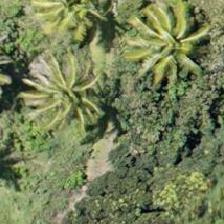Kelapa_Sawit: (23, 58, 113, 148), (128, 0, 218, 83), (35, 0, 125, 63)
